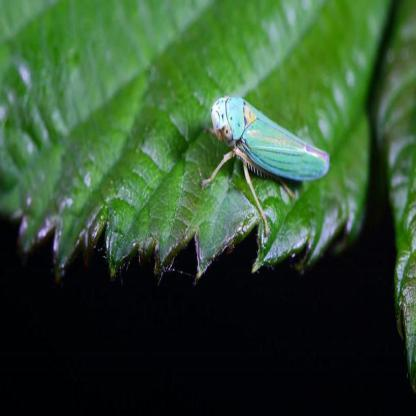green-leafhopper: (207, 97, 328, 224)
